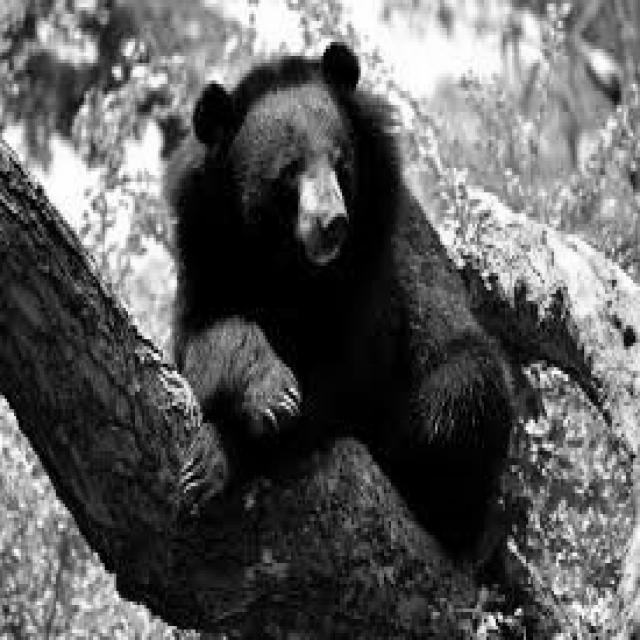Bear: (163, 42, 514, 562)
